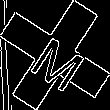M_NE: (22, 22, 88, 88)
